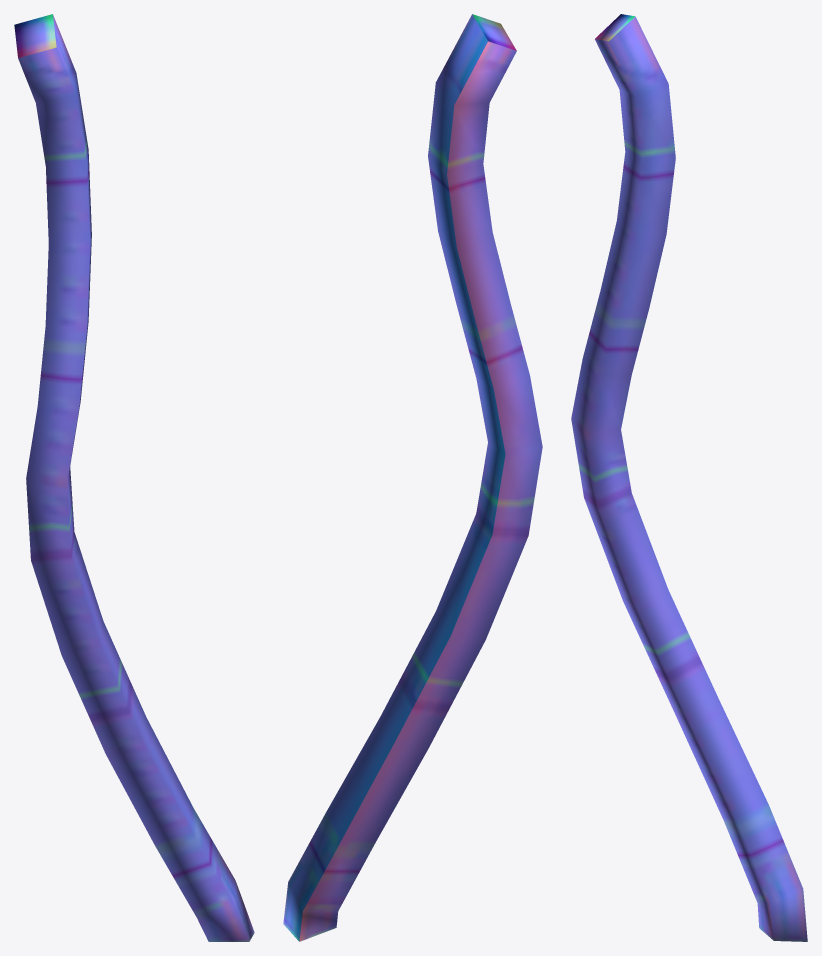
Rendered from ship_debris_05_part_23.glb.
The picture shows the model from 3 angles, left to right: view 1: azimuth 30°, elevation 25°; view 2: azimuth 150°, elevation 25°; view 3: azimuth 330°, elevation 25°; orthographic projection. The views are drawn at different scales.
Visible parts, largest first — view 1: ship_debris_05_part_23; view 2: ship_debris_05_part_23; view 3: ship_debris_05_part_23.
Part boxes in pixels (x1=…): ship_debris_05_part_23: x1=14, y1=14, x2=254, y2=941; ship_debris_05_part_23: x1=283, y1=14, x2=542, y2=941; ship_debris_05_part_23: x1=571, y1=14, x2=807, y2=941.
Bounding box in the file's own units: 0.8948 × 3.38 × 0.3221.
1 material, 1 textured.
